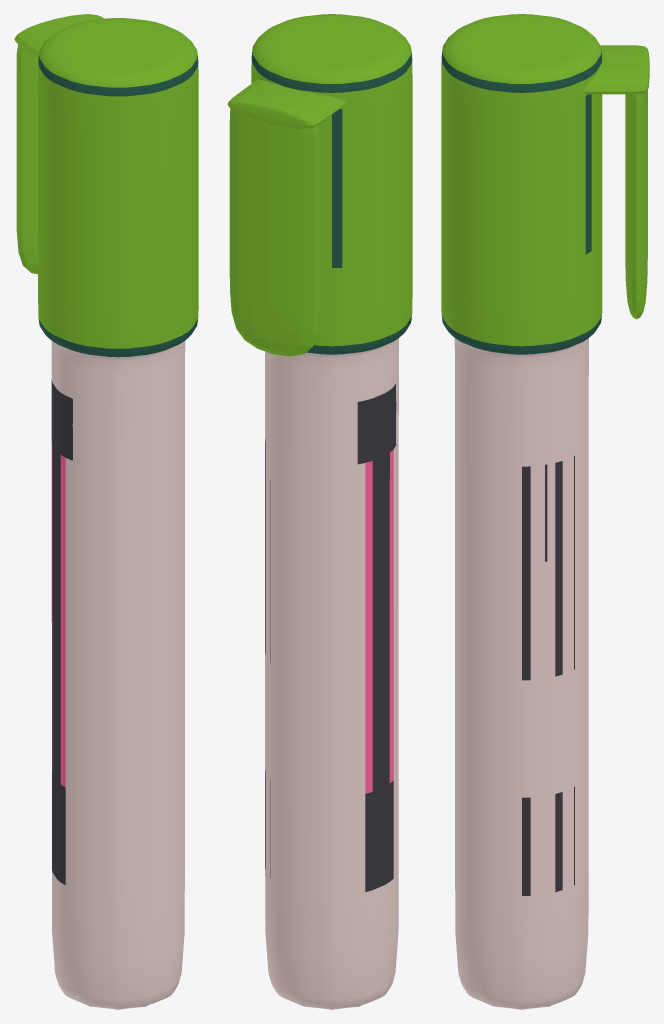
File: Marker.glb
3 renders of one model, left to right at view 1: azimuth 30°, elevation 25°; view 2: azimuth 150°, elevation 25°; view 3: azimuth 270°, elevation 25°, orthographic.
Parts seen in each view (by area): view 1: Cube.026; view 2: Cube.026; view 3: Cube.026.
Part boxes in pixels (x1,y1,x2,y2): Cube.026: (14,14,198,1009); Cube.026: (227,14,412,1009); Cube.026: (441,14,649,1009).
Size of the model in its own units: 0.665 by 4.31 by 0.8598.
Materials: 1 (1 with a texture image).
